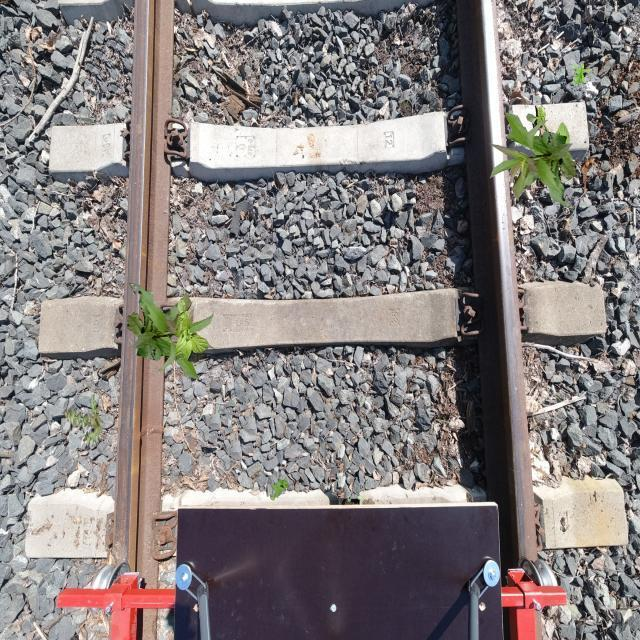Plant: (127, 283, 216, 380), (488, 112, 576, 210), (526, 104, 574, 175), (63, 393, 104, 447), (175, 300, 210, 362), (270, 476, 290, 501), (573, 62, 590, 86)
